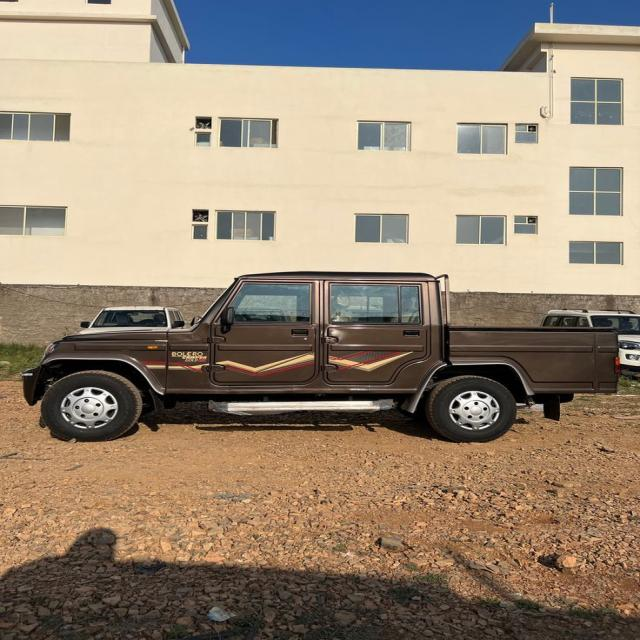light_vehicle: (29, 269, 622, 452)
